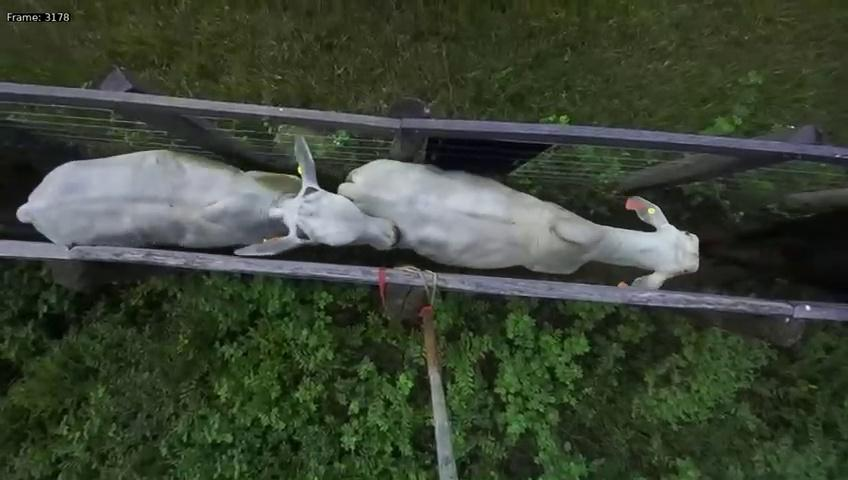cattle: (327, 146, 702, 287), (13, 132, 418, 256)
